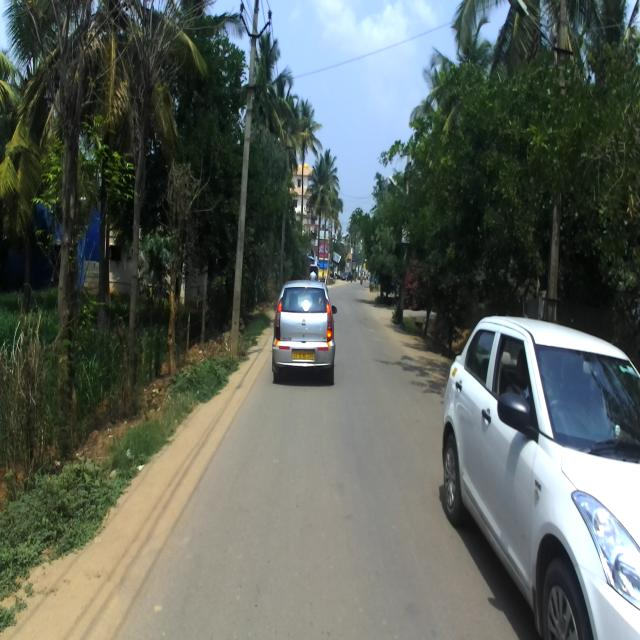car ahead at: (439, 313, 640, 640), (274, 273, 337, 390)
electric pole ahead at: (220, 0, 272, 343)
